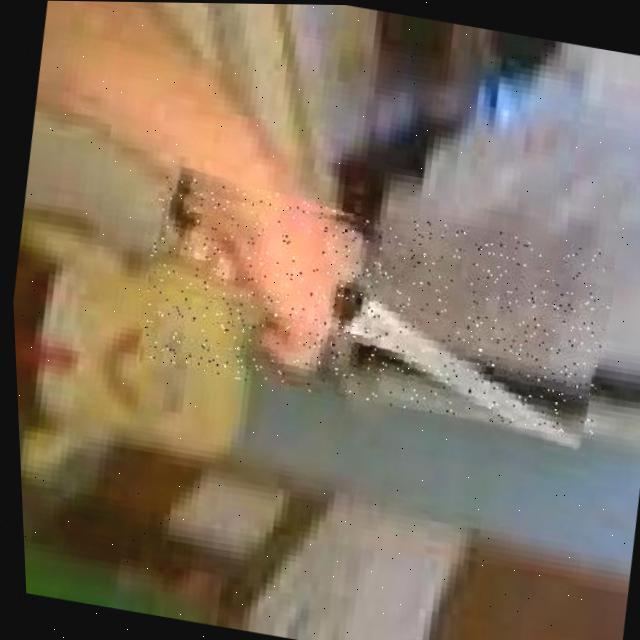knife: (128, 173, 618, 439)
